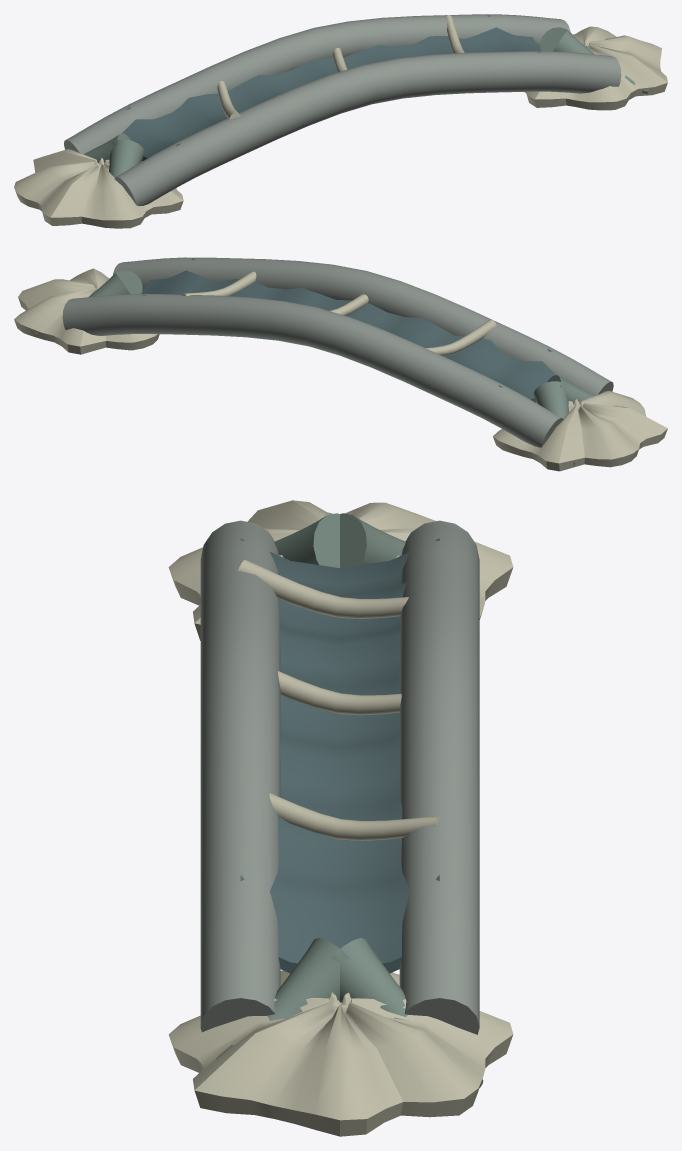
The model's file is short_tendril_bridge_lod0.glb.
3 renders of one model, top to bottom at view 1: azimuth 30°, elevation 25°; view 2: azimuth 150°, elevation 25°; view 3: azimuth 270°, elevation 25°, orthographic. The views are drawn at different scales.
Parts seen in each view (by area): view 1: LOD0_tissue, LOD0_calcite, LOD0_tissue_fold, LOD0_tissue_mature; view 2: LOD0_tissue, LOD0_calcite, LOD0_tissue_fold, LOD0_tissue_mature; view 3: LOD0_tissue, LOD0_calcite, LOD0_tissue_fold, LOD0_tissue_mature.
Part boxes in pixels (x1,y1,x2,y2): LOD0_tissue: (64,14,621,206); LOD0_calcite: (14,15,667,228); LOD0_tissue_fold: (122,15,542,161); LOD0_tissue_mature: (84,27,648,177); LOD0_tissue: (62,257,613,447); LOD0_calcite: (14,268,667,471); LOD0_tissue_fold: (141,258,555,402); LOD0_tissue_mature: (35,270,593,465); LOD0_tissue: (200,520,479,1034); LOD0_calcite: (168,500,513,1136); LOD0_tissue_fold: (240,538,439,973); LOD0_tissue_mature: (216,513,483,1087).
Bounding box in the file's own units: 5.23 × 0.695 × 1.25.
